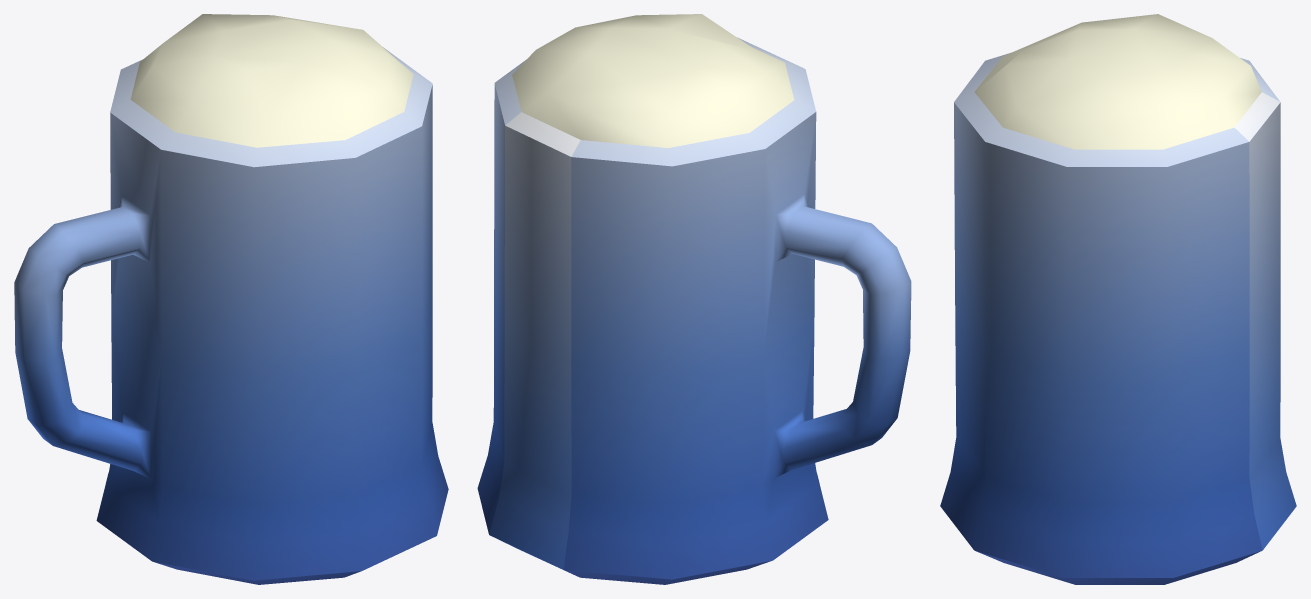
The model's file is m_BeerMug01.fbx.
The picture shows the model from 3 angles, left to right: view 1: azimuth 30°, elevation 25°; view 2: azimuth 150°, elevation 25°; view 3: azimuth 270°, elevation 25°; orthographic projection.
Visible parts, largest first — view 1: m_BeerMug01; view 2: m_BeerMug01; view 3: m_BeerMug01.
Part boxes in pixels (x1,y1,x2,y2): m_BeerMug01: [14, 14, 448, 584]; m_BeerMug01: [477, 14, 911, 584]; m_BeerMug01: [940, 14, 1296, 584].
Size of the model in its own units: 21 by 23.92 by 16.29.
